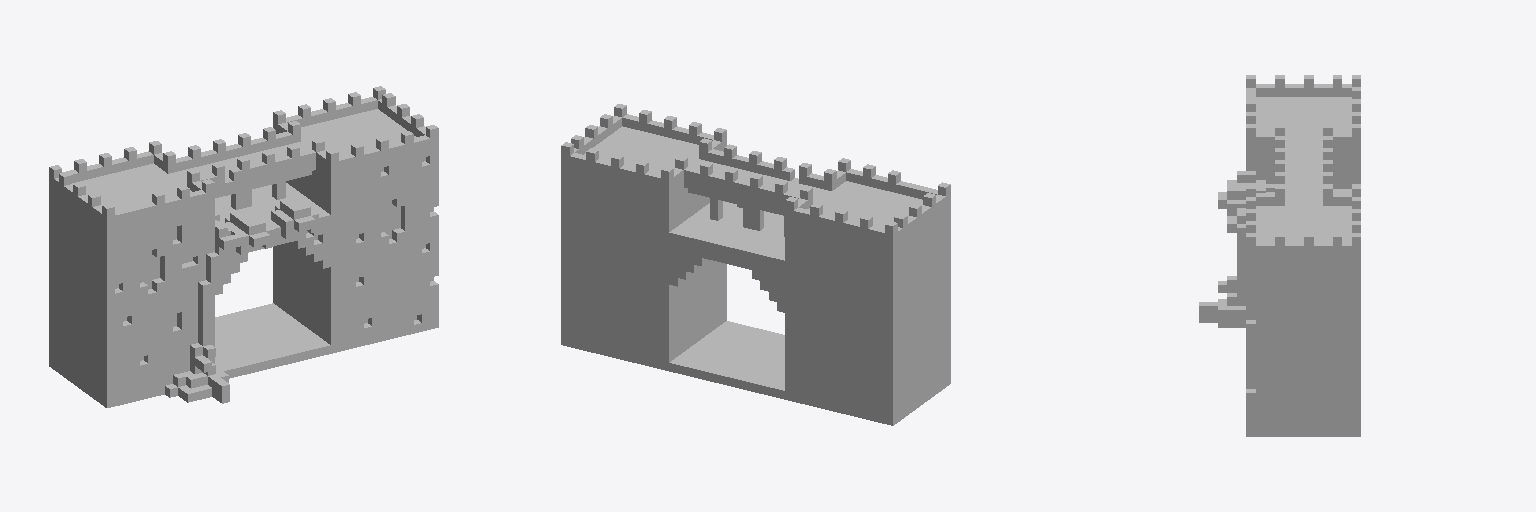
The model's file is Ворота.obj.
3 views of the same model, side by side, from view 1: azimuth 30°, elevation 25°; view 2: azimuth 150°, elevation 25°; view 3: azimuth 270°, elevation 25° (orthographic).
Parts seen in each view (by area): view 1: object 1; view 2: object 1; view 3: object 1.
Boxes of the visible parts, box(x1,y1,x2,y2) form: object 1: box(49, 86, 438, 407); object 1: box(561, 104, 950, 425); object 1: box(1199, 75, 1360, 436).
Bounding box in the file's own units: 4 × 2.3 × 1.7.